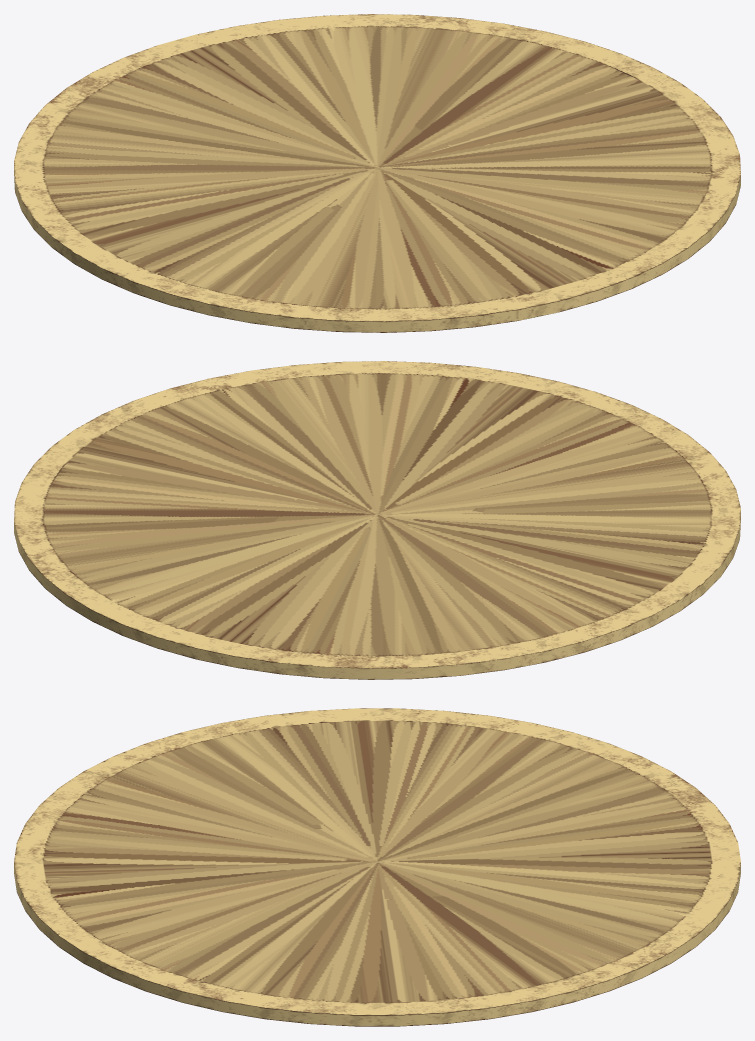
The model's file is newpinball_rogo_ring.fbx.
3 renders of one model, top to bottom at view 1: azimuth 30°, elevation 25°; view 2: azimuth 150°, elevation 25°; view 3: azimuth 270°, elevation 25°, orthographic.
Parts seen in each view (by area): view 1: rogocircle1; view 2: rogocircle1; view 3: rogocircle1.
Part boxes in pixels (bbox=[...]): rogocircle1: bbox=[14, 14, 740, 332]; rogocircle1: bbox=[14, 361, 740, 679]; rogocircle1: bbox=[14, 708, 740, 1026].
Bounding box in the file's own units: 36.61 × 0.6334 × 36.68.
